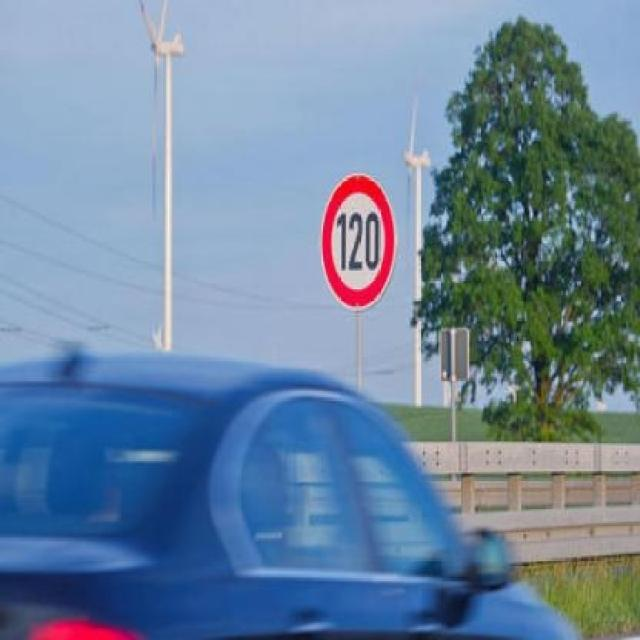forb_speed_over_120: (317, 177, 398, 311)
